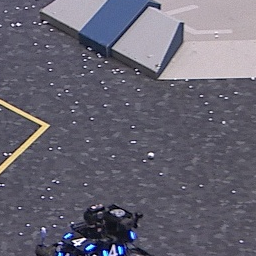Blue: (62, 231, 94, 252), (101, 244, 124, 256)
Robot: (34, 200, 155, 256)
